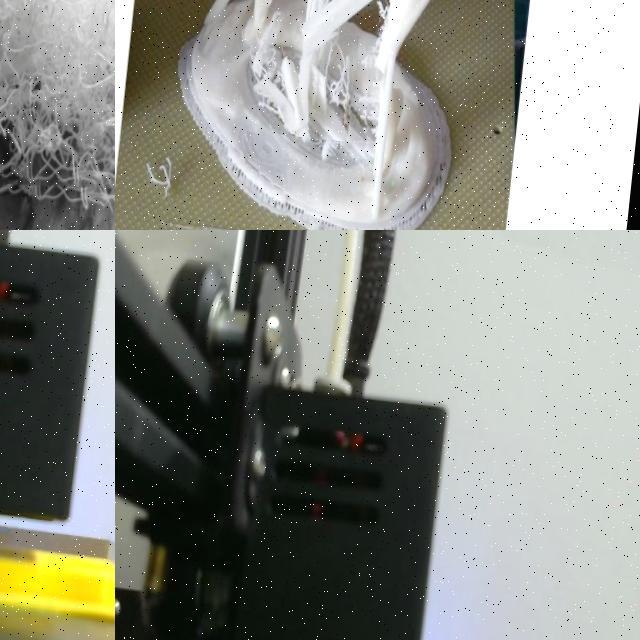spaghetti: (238, 0, 431, 211), (241, 16, 360, 141), (351, 0, 391, 181), (136, 140, 186, 208), (292, 214, 328, 230)
